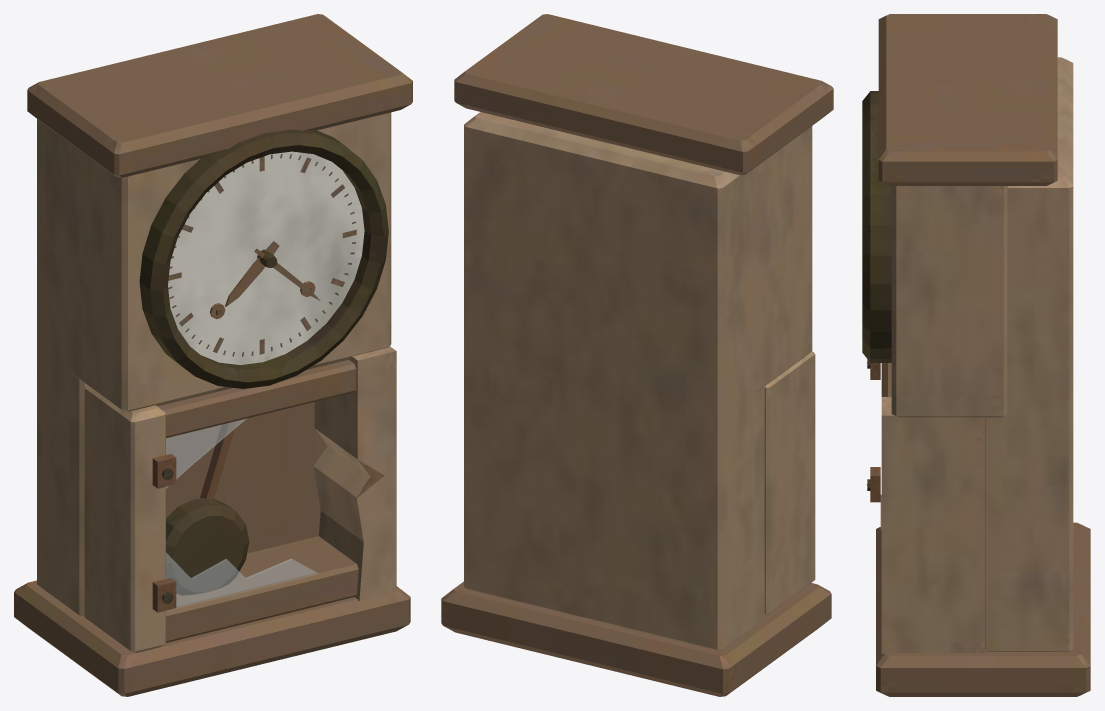
File: BR24_broken_clock_v2.glb
3 views of the same model, side by side, from view 1: azimuth 30°, elevation 25°; view 2: azimuth 150°, elevation 25°; view 3: azimuth 270°, elevation 25° (orthographic).
Visible parts, largest first — view 1: Factory pendulum clock; view 2: Factory pendulum clock; view 3: Factory pendulum clock.
Part boxes in pixels (x1,y1,x2,y2): Factory pendulum clock: [14, 14, 412, 696]; Factory pendulum clock: [441, 14, 833, 696]; Factory pendulum clock: [862, 14, 1090, 696].
Size of the model in its own units: 0.338 by 0.6 by 0.2265.
7 materials, 6 textured.
